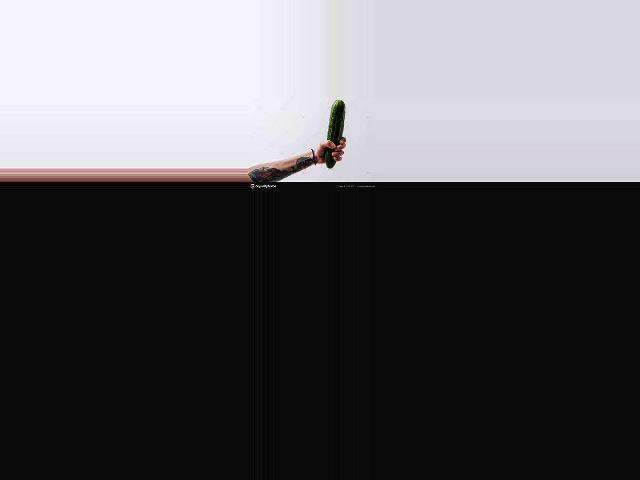cucumber: (325, 99, 345, 168)
